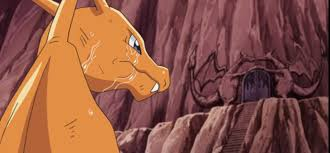charizard: (1, 1, 180, 153)
